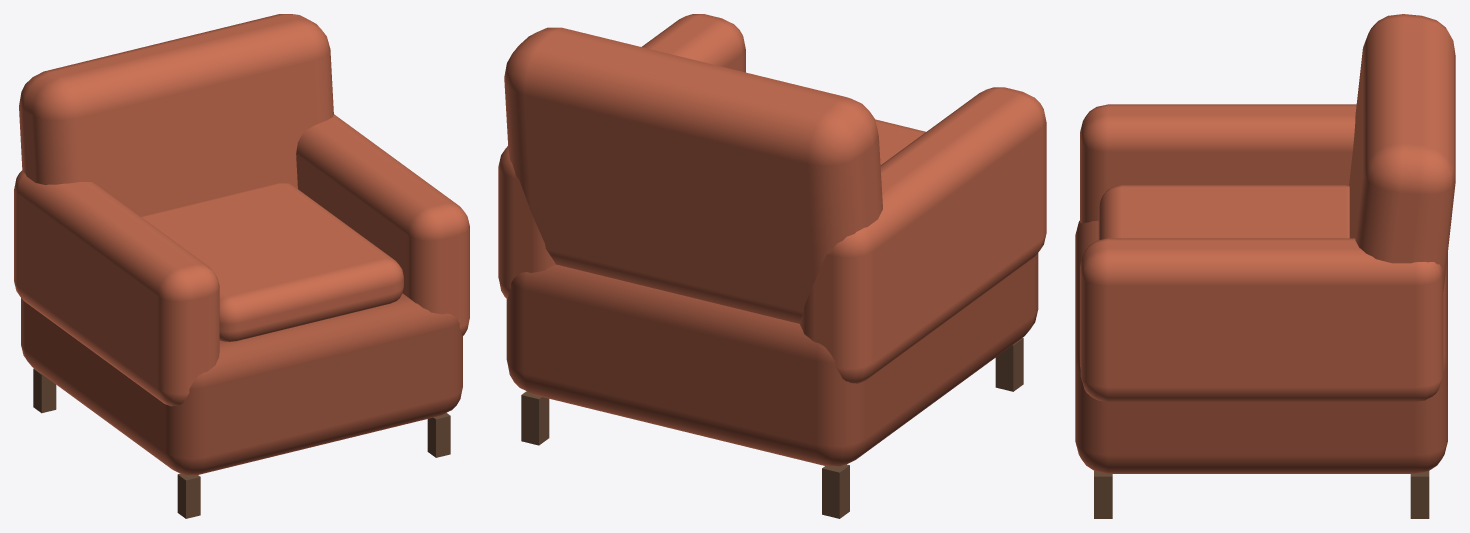
Rendered from poltrona.glb.
3 renders of one model, left to right at view 1: azimuth 30°, elevation 25°; view 2: azimuth 150°, elevation 25°; view 3: azimuth 270°, elevation 25°, orthographic. The views are drawn at different scales.
Parts seen in each view (by area): view 1: poltrona_malha; view 2: poltrona_malha; view 3: poltrona_malha.
Boxes of the visible parts, left/top/right/bottom form: poltrona_malha: left=14, top=14, right=469, bottom=518; poltrona_malha: left=498, top=14, right=1046, bottom=518; poltrona_malha: left=1075, top=14, right=1455, bottom=518.
Bounding box in the file's own units: 0.84 × 0.8708 × 0.8165.
